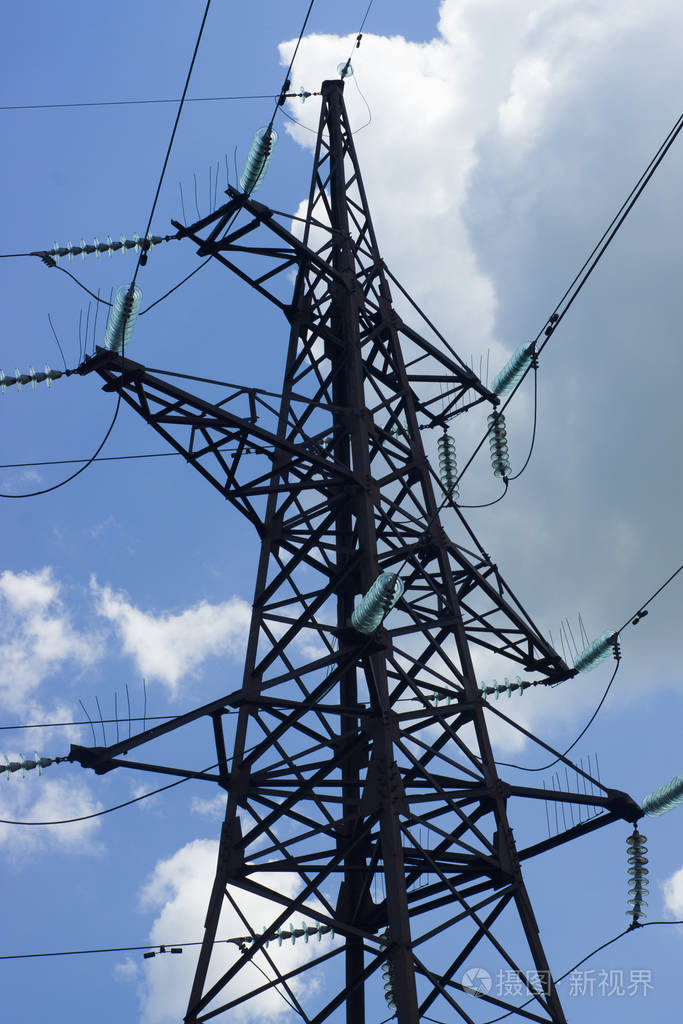insulator: (350, 571, 406, 631), (52, 232, 154, 264), (238, 128, 282, 187), (622, 834, 650, 923), (107, 284, 143, 349), (264, 919, 336, 950), (437, 432, 463, 506), (574, 632, 618, 675), (3, 360, 57, 392), (493, 346, 534, 388), (485, 412, 510, 478), (1, 747, 49, 781), (648, 779, 682, 819), (481, 675, 529, 701)
